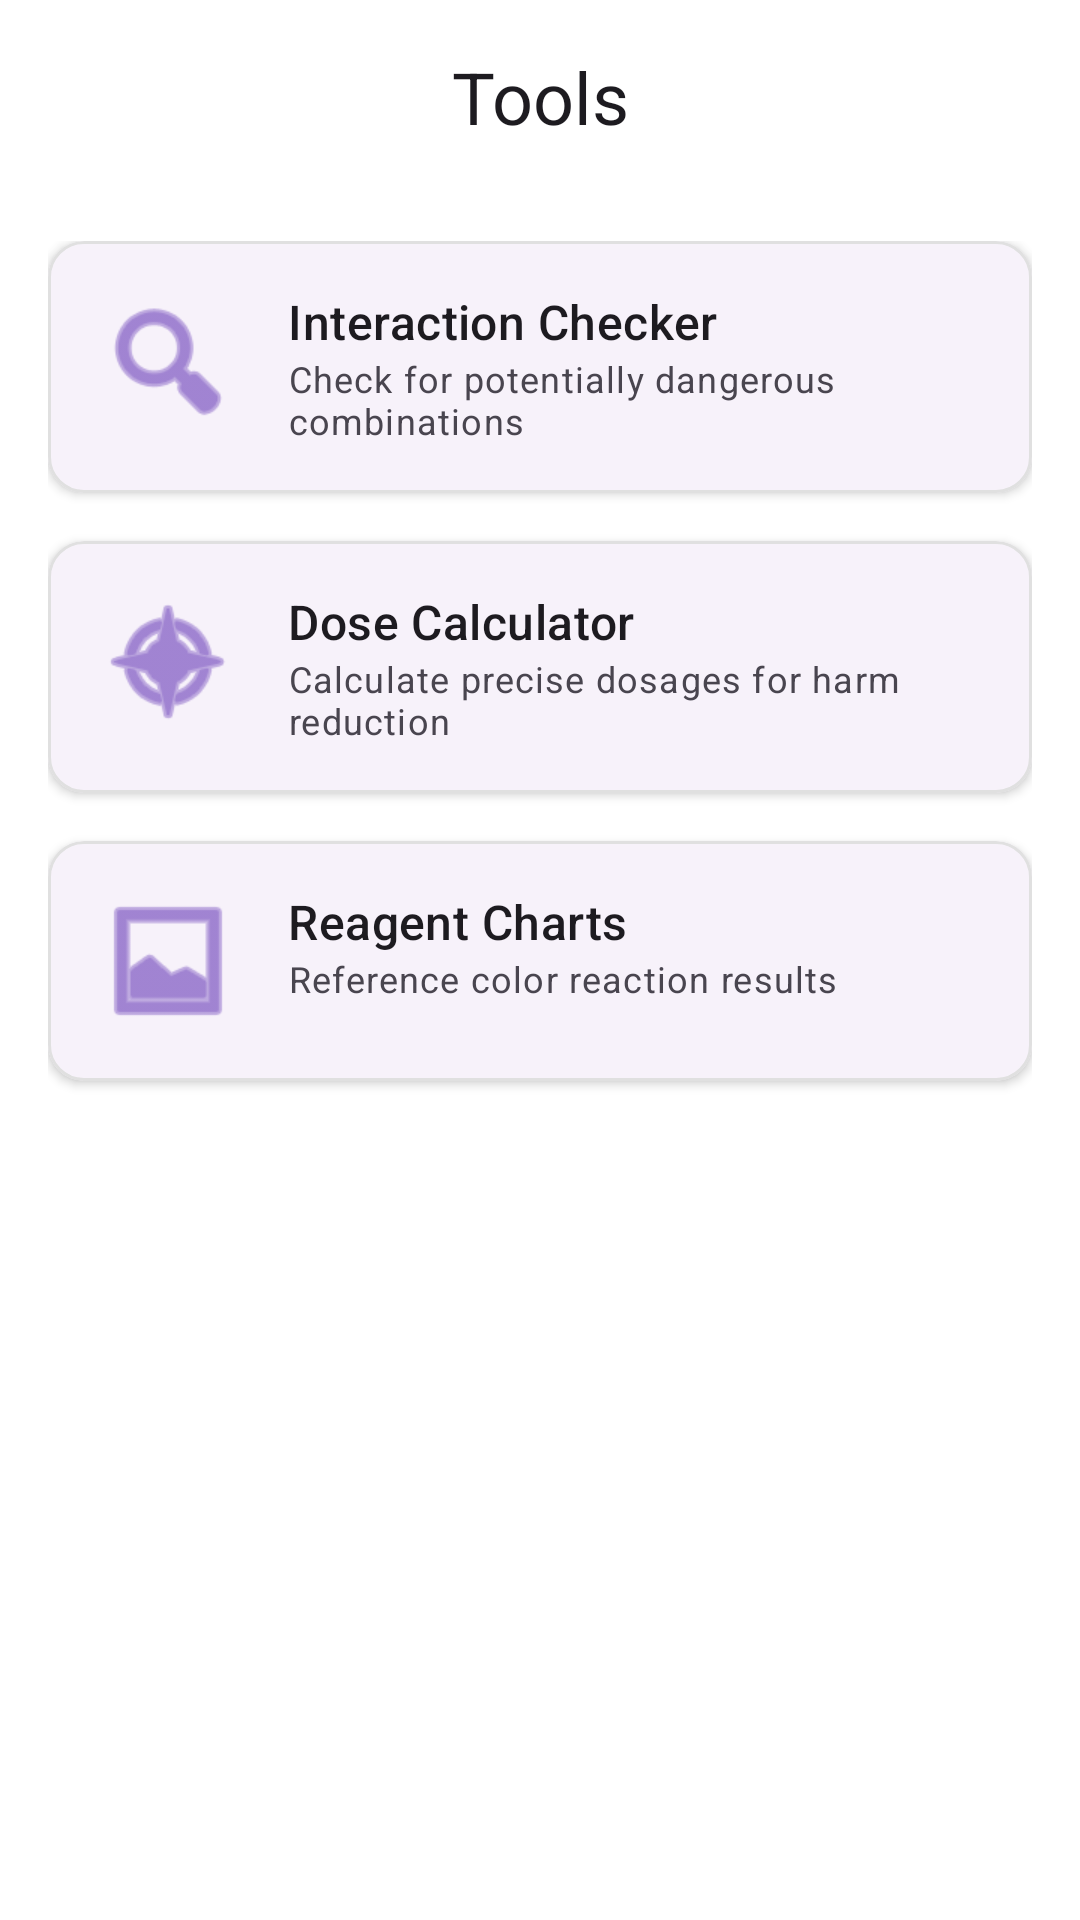

Named icons in this screenshot (1080 x 1920) and their centers, point (x, y):
compass: point (167, 661)
gallery: point (168, 961)
search: point (168, 361)
